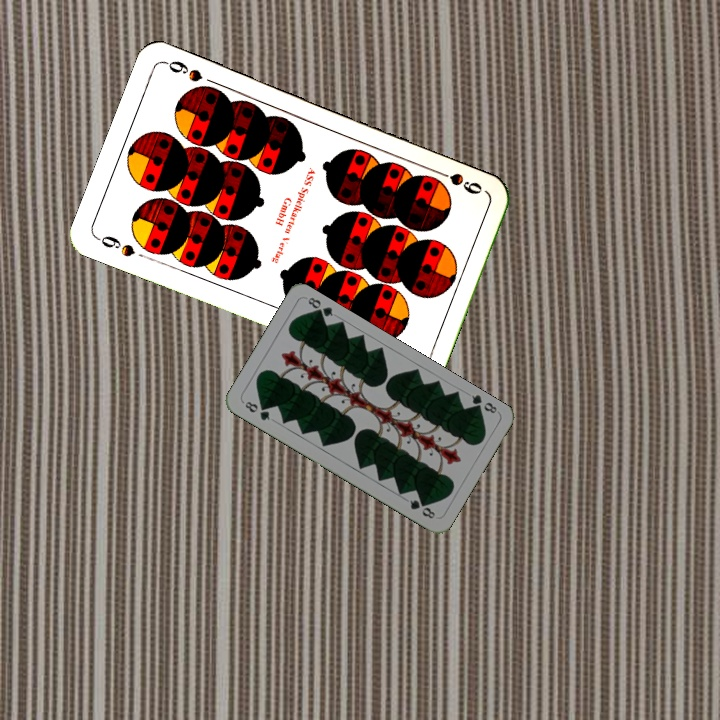G8: (467, 390, 501, 416), (241, 397, 273, 423)
S9: (430, 165, 485, 197), (93, 231, 138, 260)
